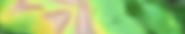Tomato Early blight leaf: (7, 0, 160, 34)
